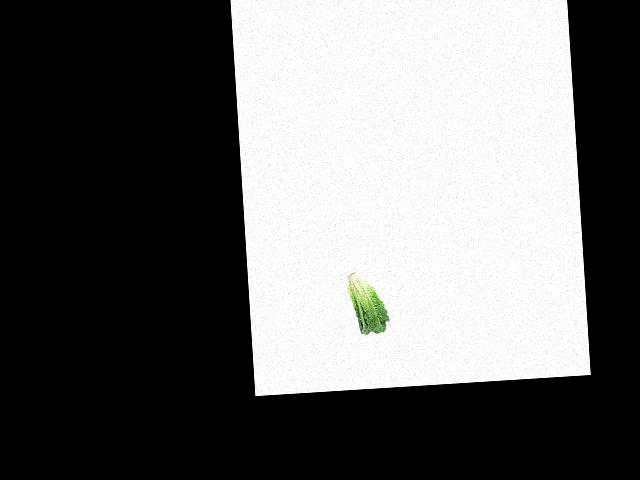lettuce: (344, 266, 389, 337)
